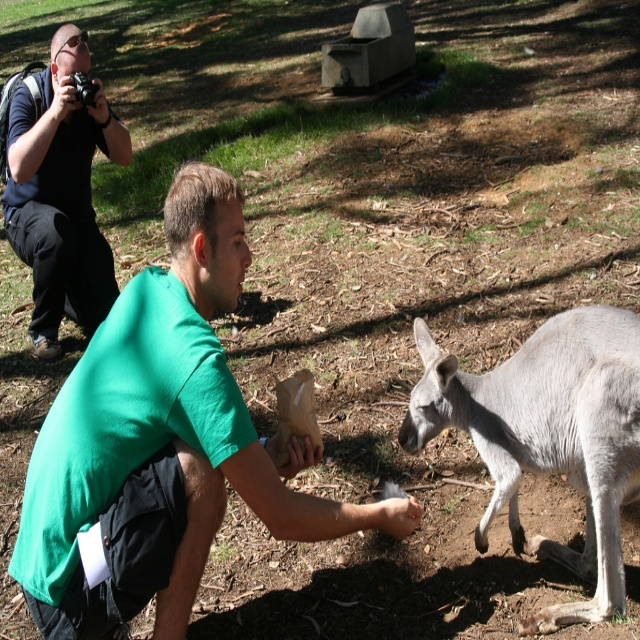Kangaroo: (398, 297, 640, 638)
